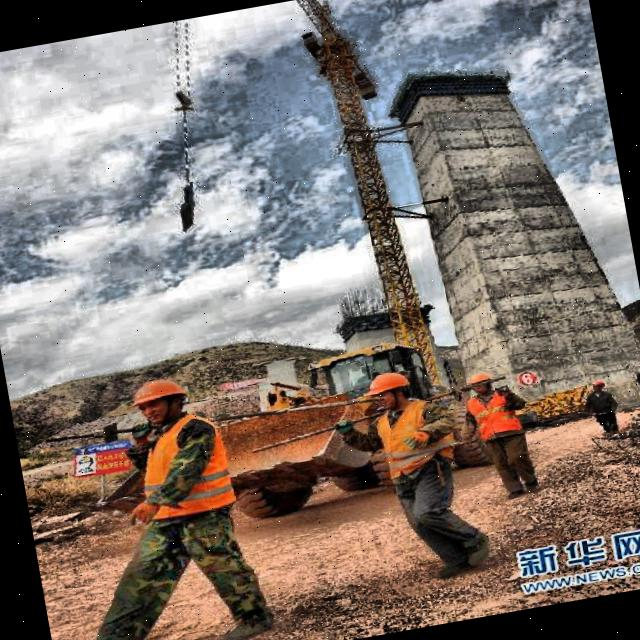helmet: (124, 368, 195, 428), (358, 367, 419, 413), (456, 366, 498, 404), (586, 376, 610, 394)
